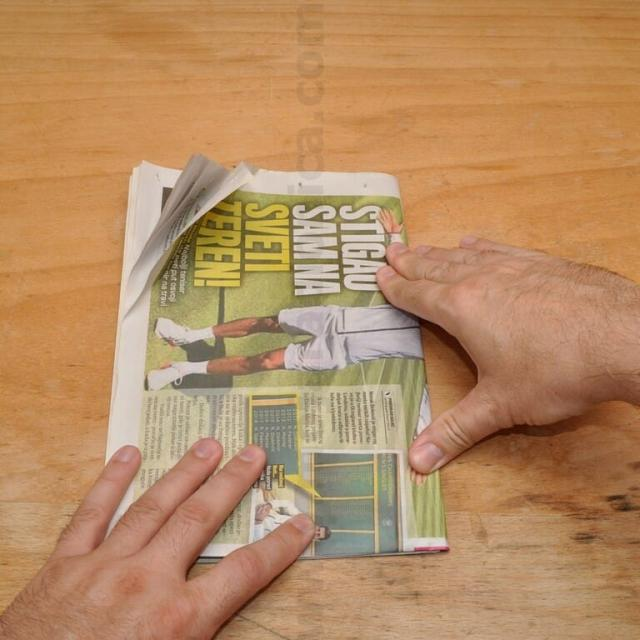newspaper: (122, 167, 444, 556)
